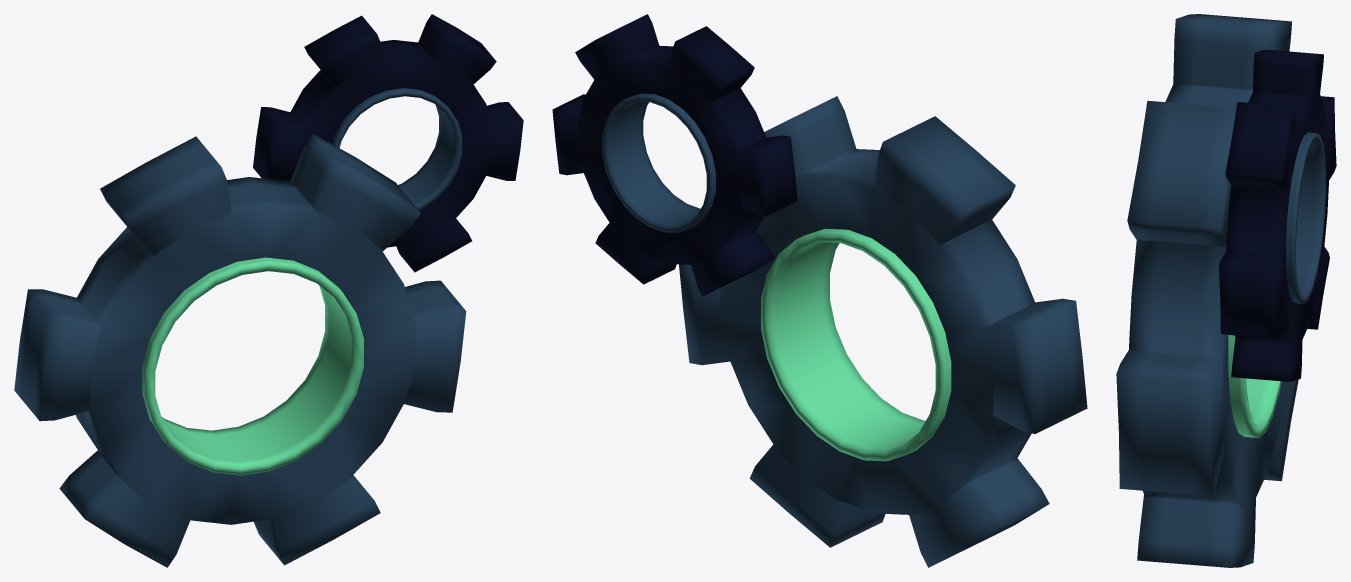
Rendered from Gear.gltf.
3 renders of one model, left to right at view 1: azimuth 30°, elevation 25°; view 2: azimuth 150°, elevation 25°; view 3: azimuth 270°, elevation 25°, orthographic. The views are drawn at different scales.
Parts seen in each view (by area): view 1: Gear, Gear.002, Gear.001, Gear.003; view 2: Gear, Gear.002, Gear.001, Gear.003; view 3: Gear, Gear.002, Gear.003, Gear.001.
Part boxes in pixels (<box>): Gear: <box>14,134,466,567</box>; Gear.002: <box>253,14,523,272</box>; Gear.001: <box>142,257,363,475</box>; Gear.003: <box>332,88,462,210</box>; Gear: <box>679,96,1087,567</box>; Gear.002: <box>552,14,797,296</box>; Gear.001: <box>761,228,951,461</box>; Gear.003: <box>602,93,715,232</box>; Gear: <box>1116,14,1298,567</box>; Gear.002: <box>1219,50,1336,381</box>; Gear.003: <box>1286,132,1326,303</box>; Gear.001: <box>1228,335,1281,437</box>.
Bounding box in the file's own units: 16.53 × 15.18 × 5.21.
